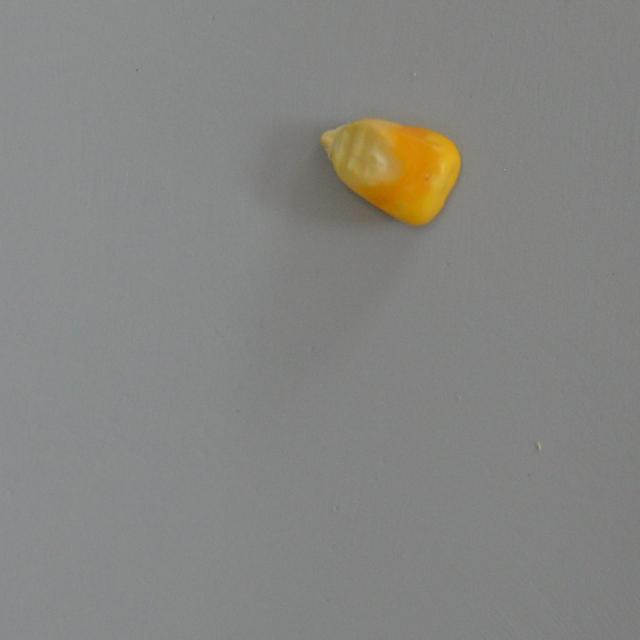entero: (315, 118, 463, 226)
